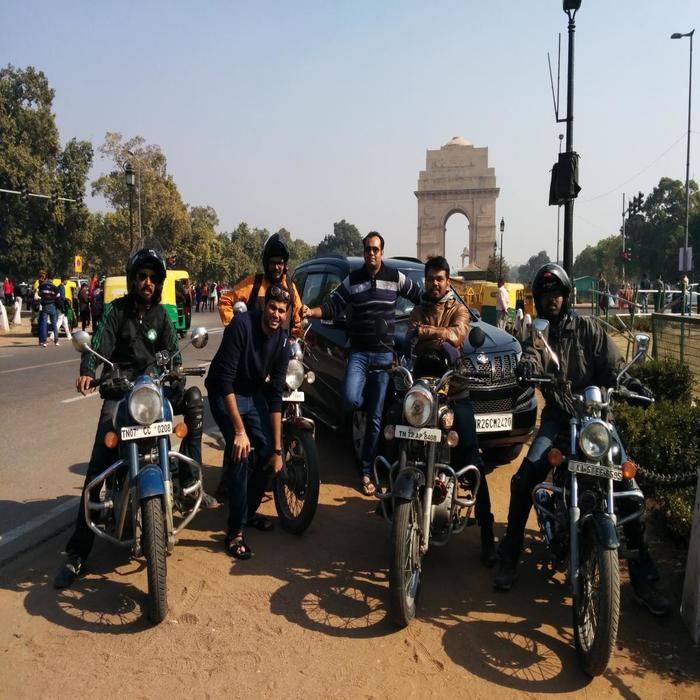h: (532, 262, 574, 314), (261, 232, 291, 285), (127, 248, 167, 279)
n: (566, 457, 624, 484), (117, 419, 175, 442), (392, 422, 443, 444), (472, 412, 514, 434), (281, 389, 306, 404)
